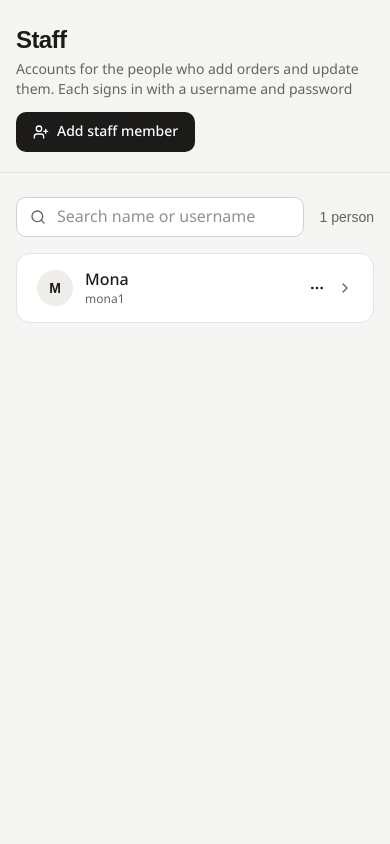
Test: StaffManager › adds a staff member
This screenshot has width=390, height=844.
Click the button "Add staff member".
click(106, 132)  # box [16, 112, 195, 152]
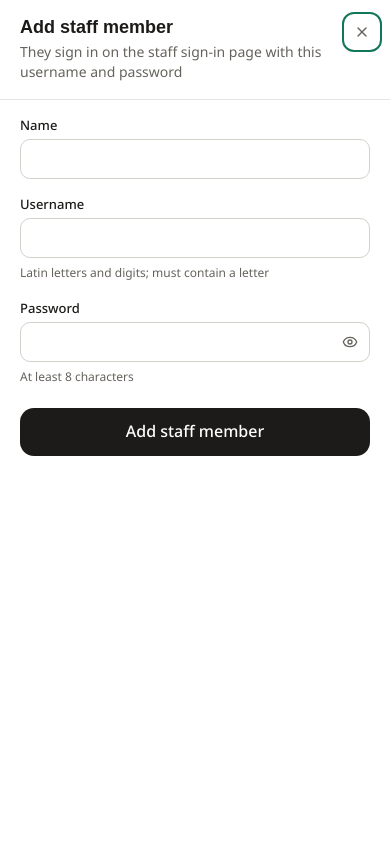
Type "Ali" into the field labelled "Name".
click(195, 158); type("Ali")  # box [20, 138, 370, 178]
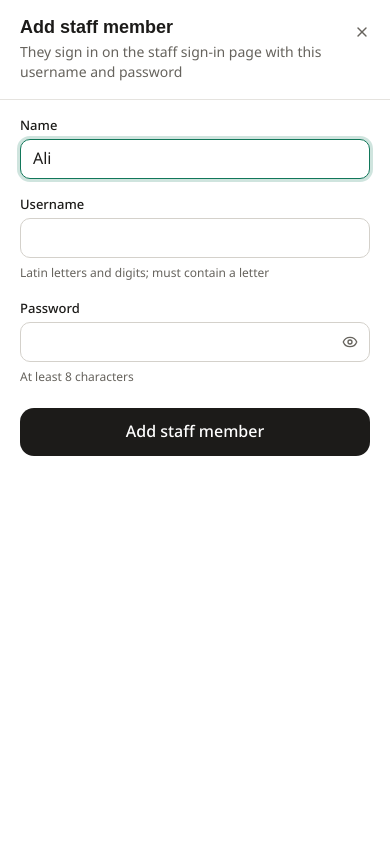
Type "ali_2" into the field labelled "Username".
click(195, 238); type("ali_2")  # box [20, 218, 370, 258]
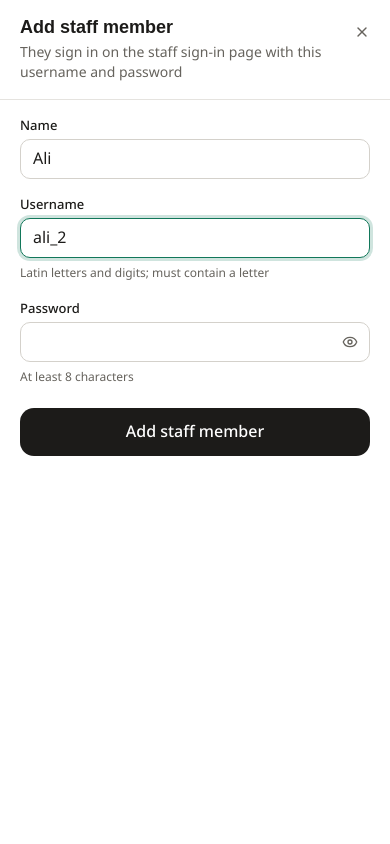
Type "secret-123" into the password field labelled "Password".
click(195, 342); type("secret-123")  # box [20, 322, 370, 362]
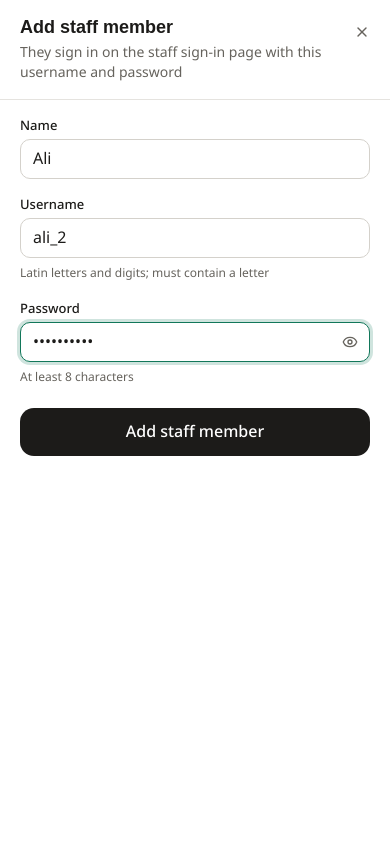
Click the button "Add staff member".
click(195, 432)  # box [20, 408, 370, 456]
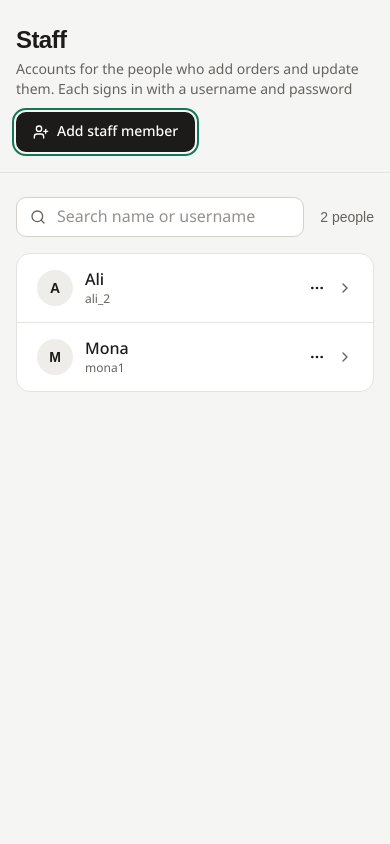
Expected: the text "ali_2" is shown, [85, 292, 110, 308]
